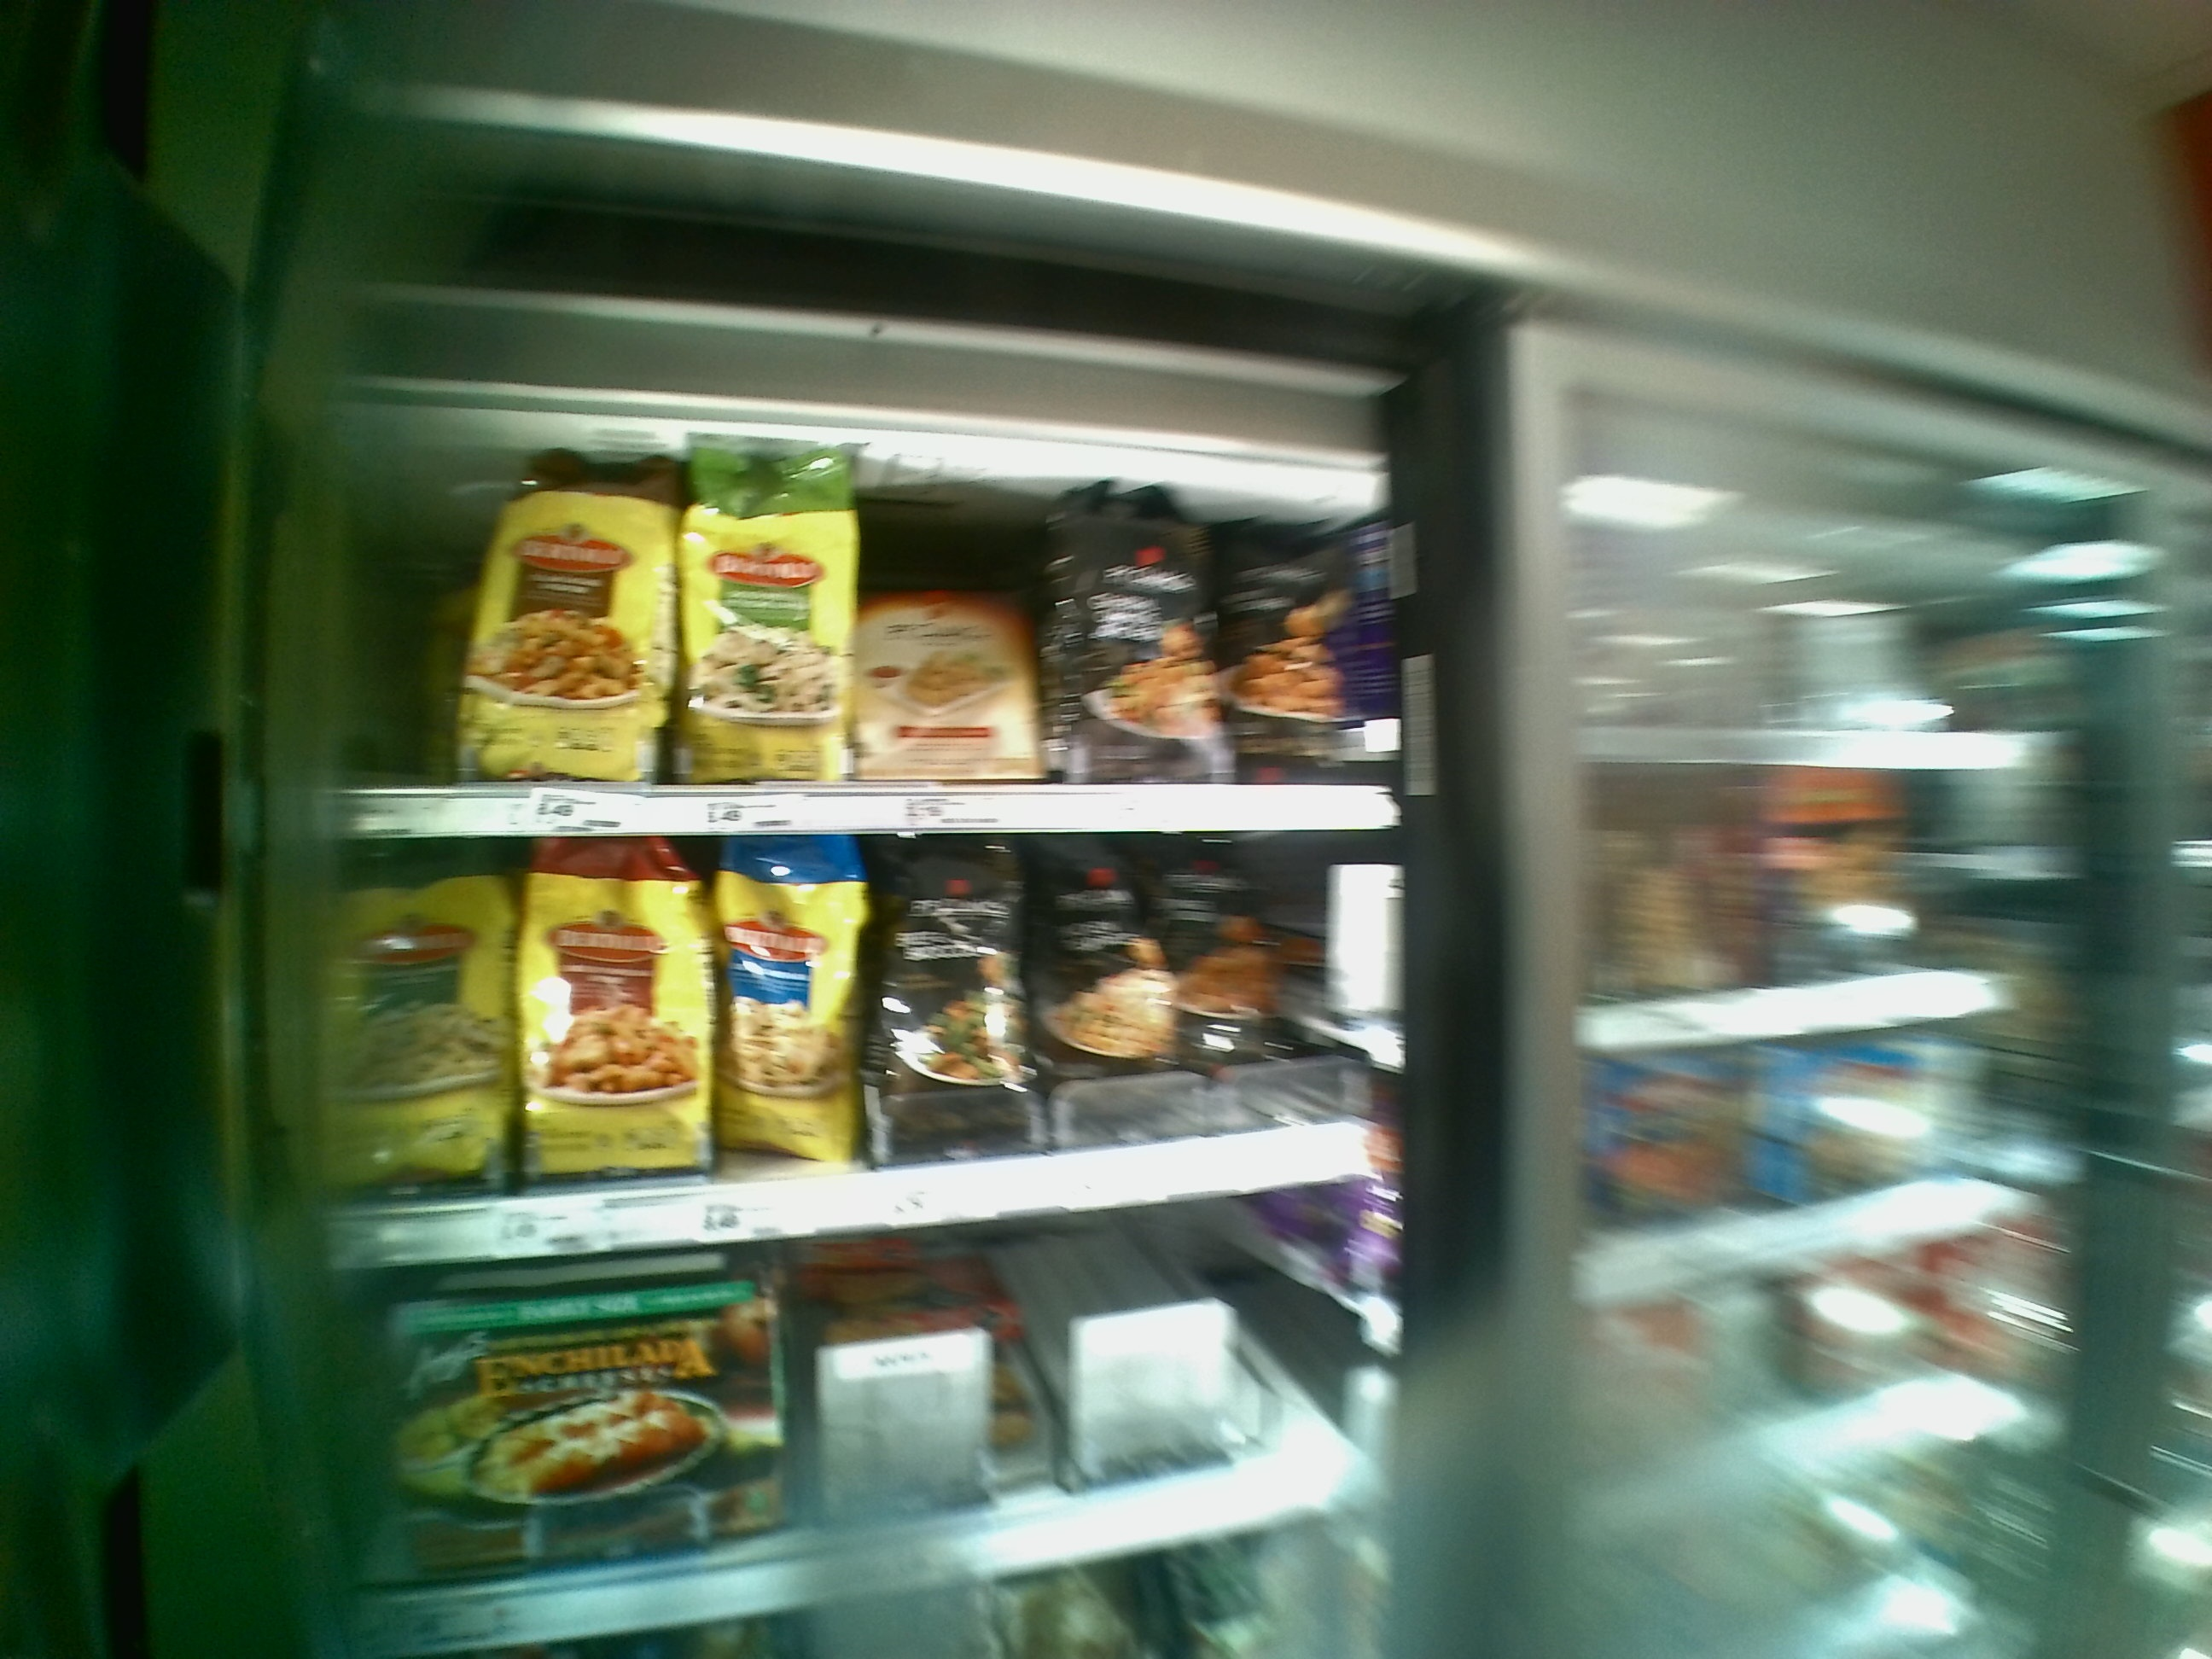shelf: (320, 389, 1386, 831), (324, 836, 1381, 1244), (347, 1246, 1359, 1591)
